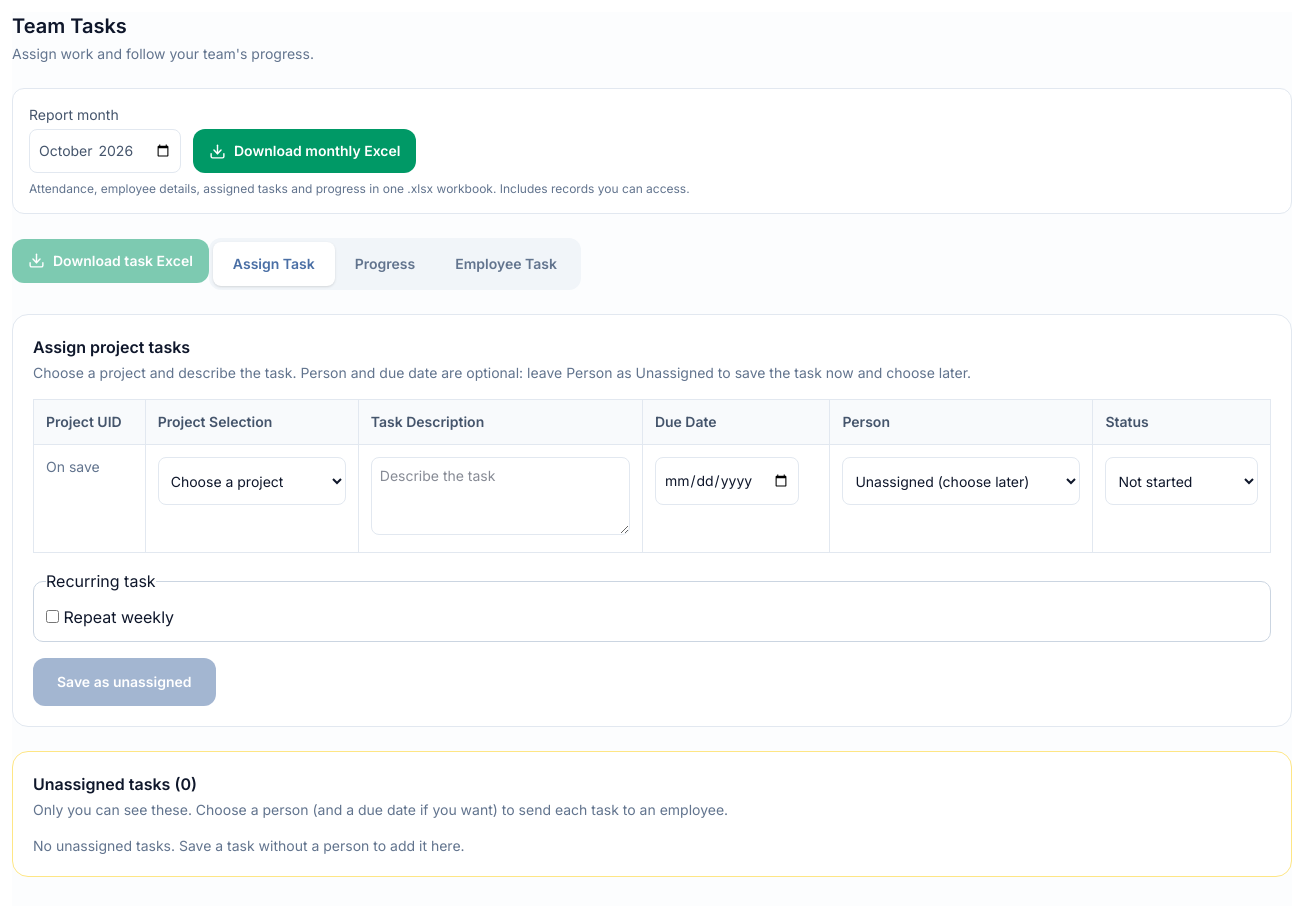
Test: manager task assignments › saves a task without a person or due date as unassigned and keeps the project
Select "+ Add new project" in the dropdown named "Project Selection" at x=252, y=481, box [158,457,346,505]
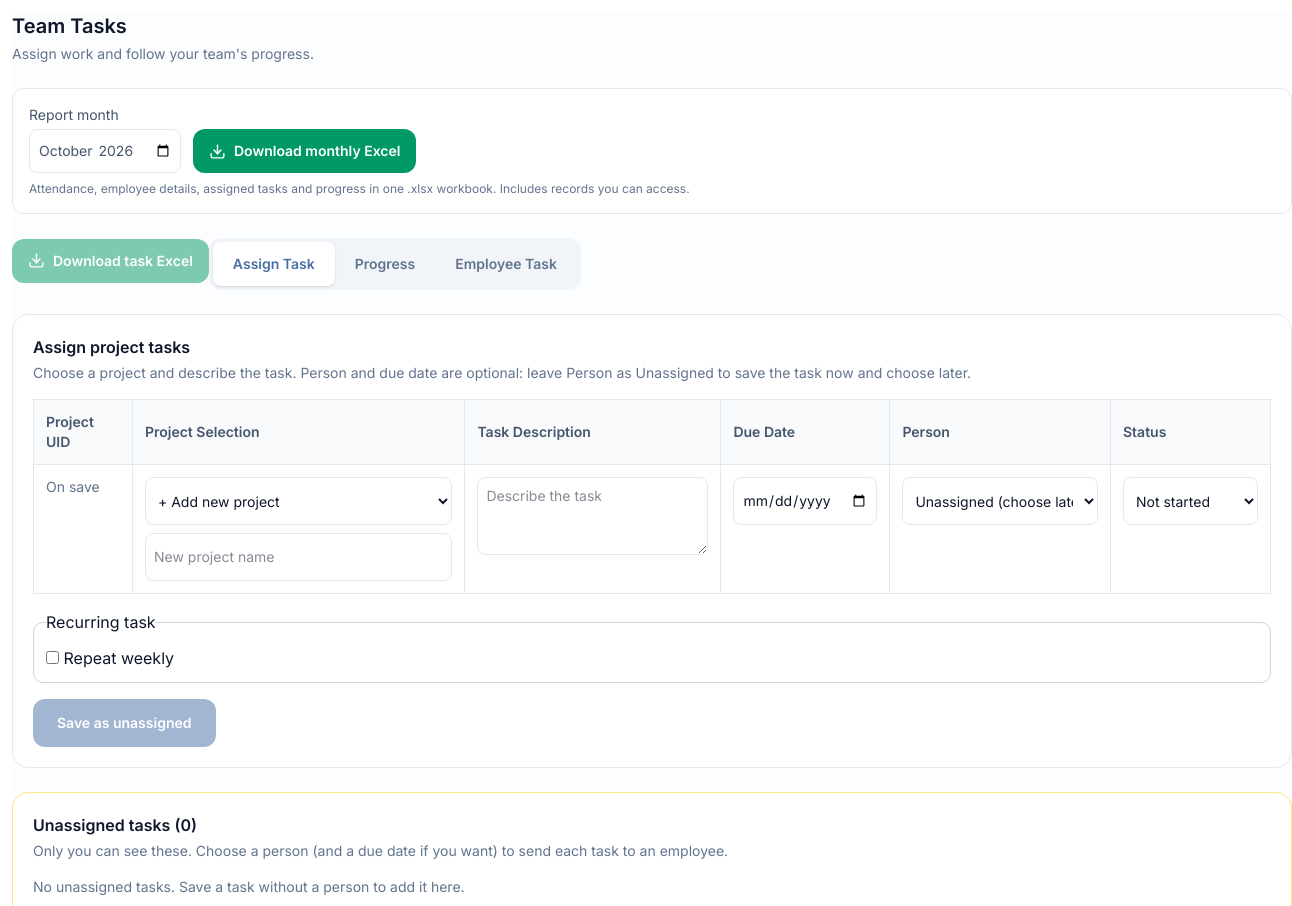
Type "Tower A" into the field labelled "New project name" at x=299, y=557, box [145,533,452,581]
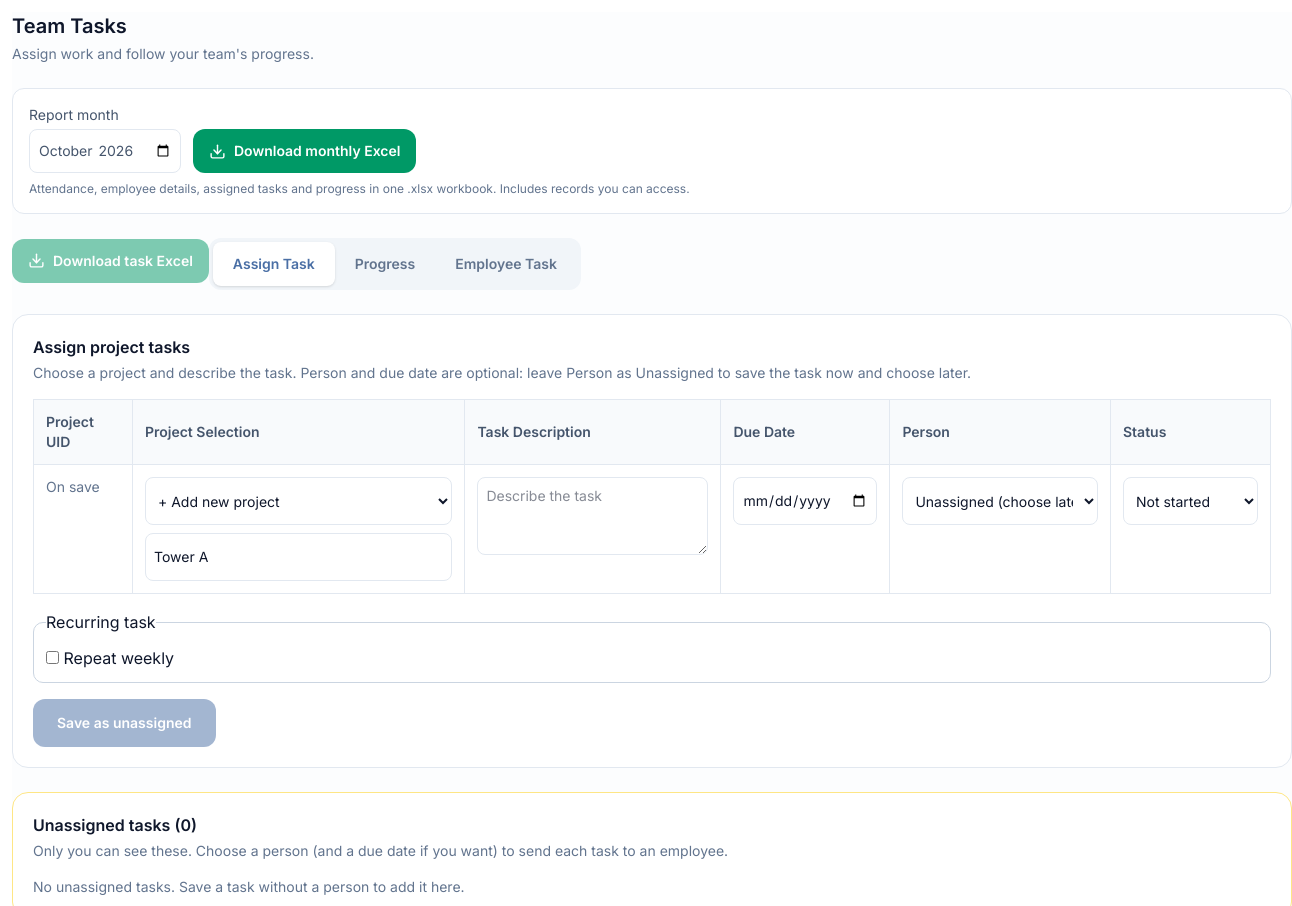
Type "Check drawings" into the text box named "Task Description" at x=593, y=516, box [477,477,708,555]
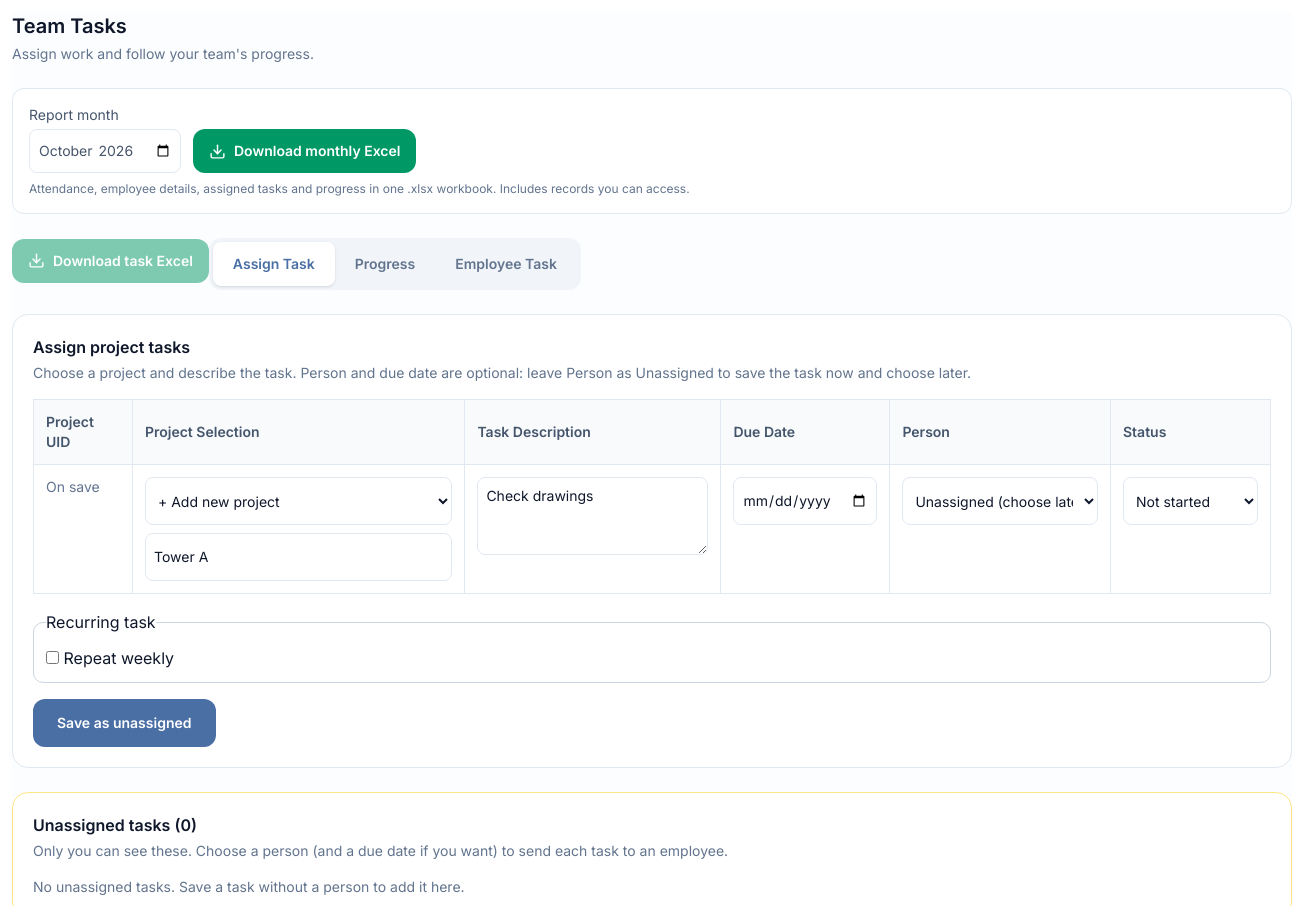
expect the dropdown named "Status" is disabled: met, box [1123,477,1258,525]
Click the button "Save as unassigned" at x=124, y=723, box [33,699,216,747]
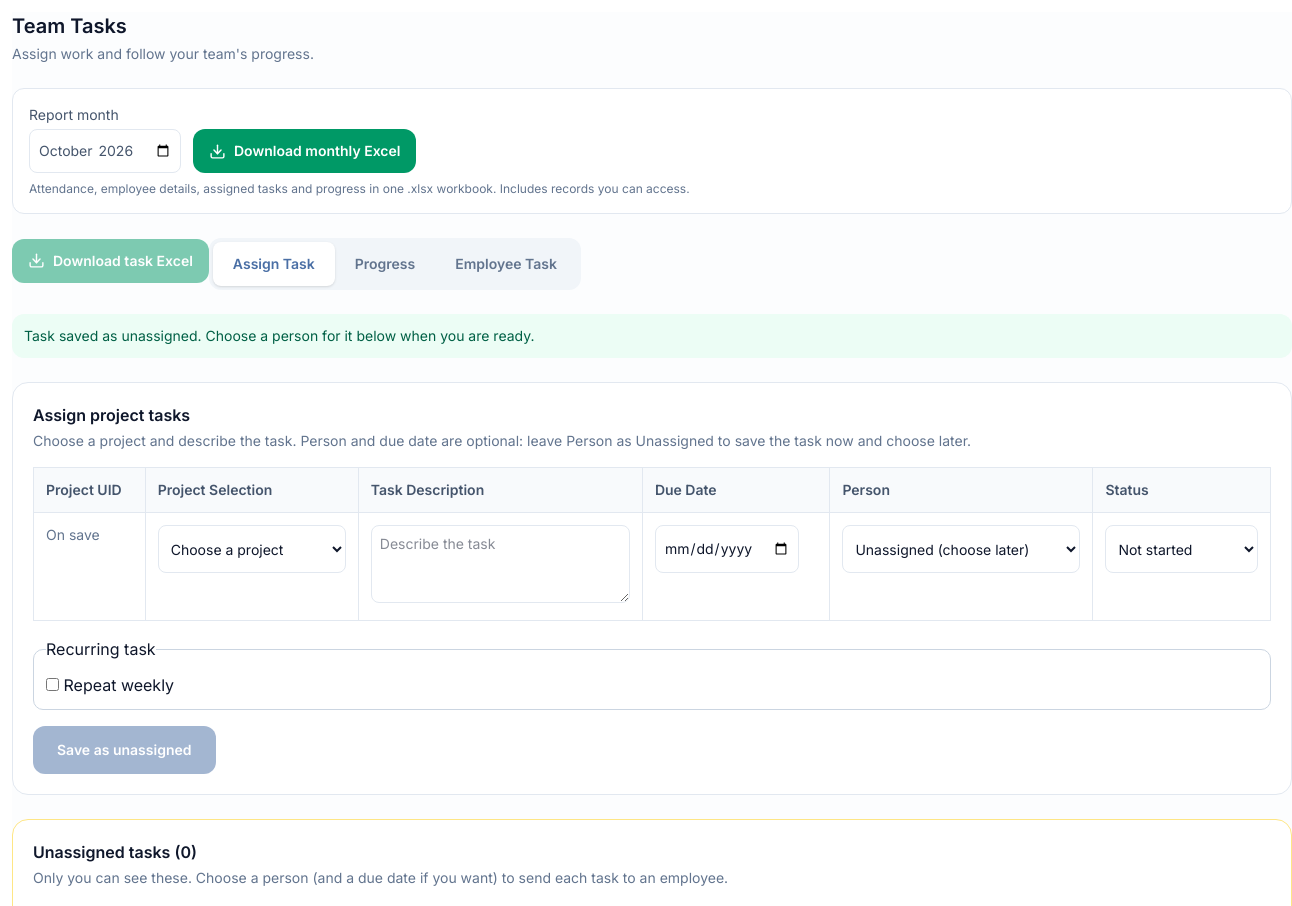
expect the text "Task saved as unassigned. Choose a person for it below when you are ready." is shown: met, box [12,314,1291,358]
expect the text box named "Task Description" is empty: met, box [371,525,630,603]
